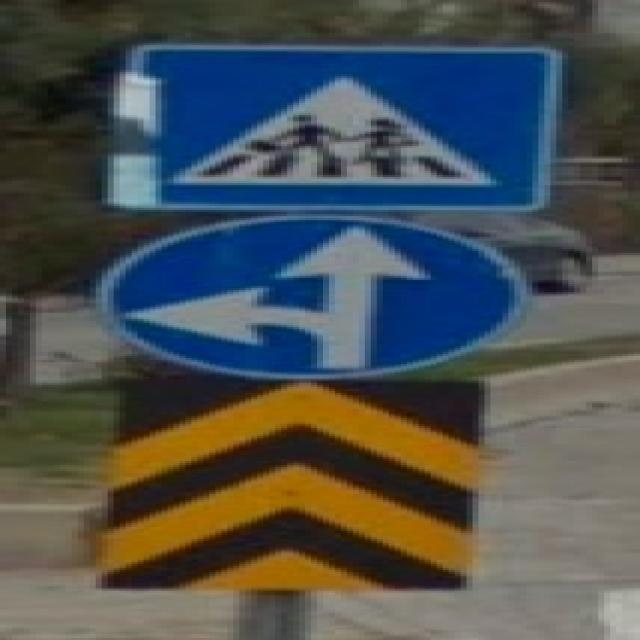Straight or Left: (94, 216, 524, 377)
